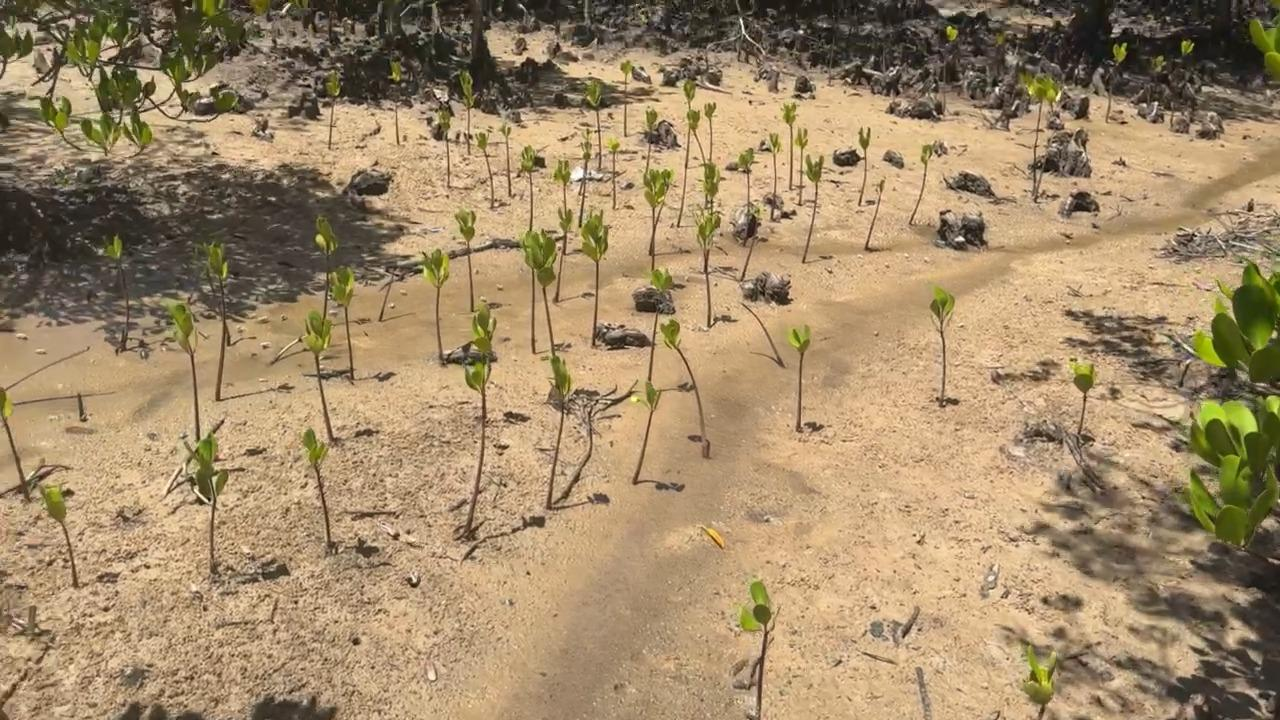Tree: (463, 301, 498, 528), (659, 317, 710, 458), (184, 432, 229, 572), (160, 291, 201, 441), (741, 579, 780, 720), (1021, 70, 1058, 192), (521, 229, 556, 353), (687, 204, 721, 327), (205, 243, 231, 401), (193, 241, 232, 346), (545, 352, 571, 508), (580, 208, 609, 343), (304, 310, 334, 440), (41, 484, 77, 585), (645, 267, 676, 382), (1031, 85, 1062, 200), (303, 428, 332, 545), (0, 386, 29, 501), (929, 284, 956, 404), (630, 380, 661, 484), (686, 101, 716, 206), (421, 248, 449, 360), (328, 264, 354, 377), (105, 233, 130, 349), (740, 301, 783, 364), (1023, 643, 1057, 720), (314, 214, 338, 320), (453, 209, 477, 311), (788, 324, 811, 430), (647, 168, 674, 254), (803, 155, 824, 262), (1170, 39, 1195, 127), (908, 143, 933, 224), (1073, 361, 1098, 436), (553, 208, 573, 301), (643, 169, 661, 269), (1105, 43, 1127, 121), (585, 79, 604, 169), (475, 130, 495, 207), (741, 205, 761, 280), (520, 144, 537, 232), (943, 26, 960, 110), (780, 101, 796, 188), (864, 179, 884, 247), (766, 132, 781, 221), (459, 69, 473, 153), (325, 70, 340, 147), (499, 120, 513, 196), (553, 158, 571, 215), (683, 81, 695, 165), (795, 127, 808, 204), (702, 162, 720, 216), (580, 141, 591, 228), (620, 59, 632, 137), (858, 126, 870, 204), (439, 109, 451, 186), (390, 61, 401, 144), (608, 135, 620, 208), (739, 146, 754, 204), (644, 108, 657, 173), (1149, 54, 1165, 105), (679, 164, 687, 227)
